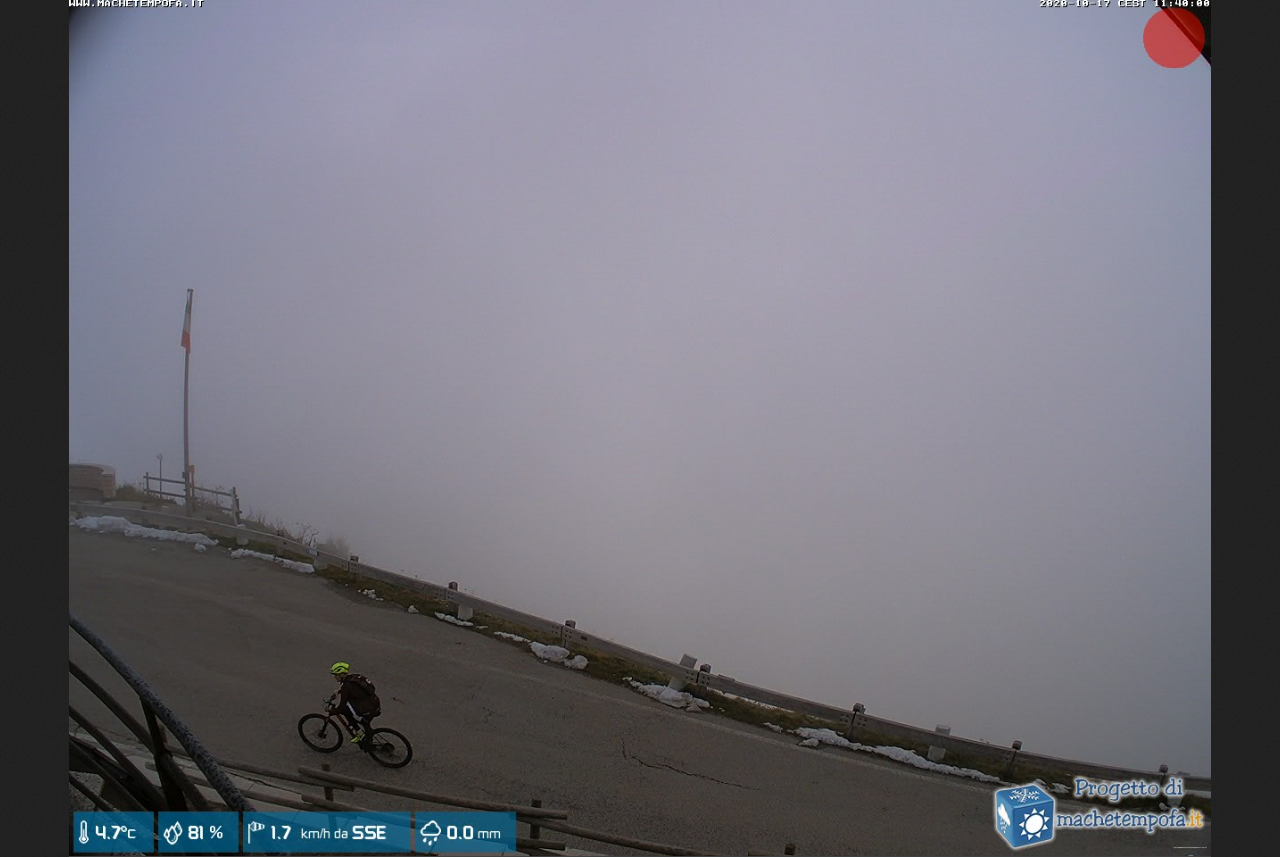no: (183, 294, 196, 352)
